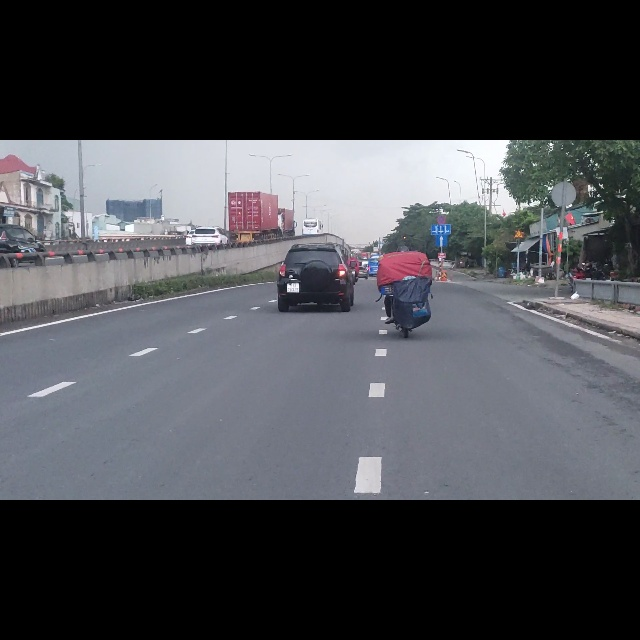bien_cam: (435, 168, 448, 190), (514, 159, 523, 175), (437, 135, 447, 149)
